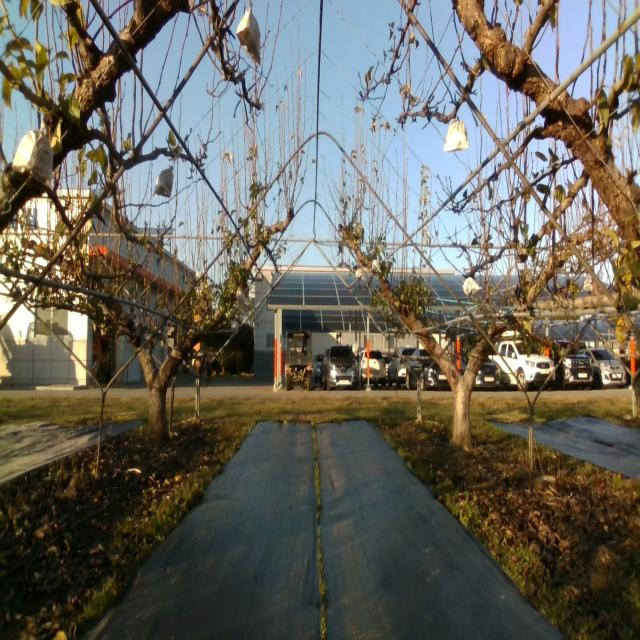pearbags: (12, 128, 54, 190), (236, 0, 260, 66), (444, 114, 468, 152), (153, 164, 174, 197), (462, 277, 482, 297)
